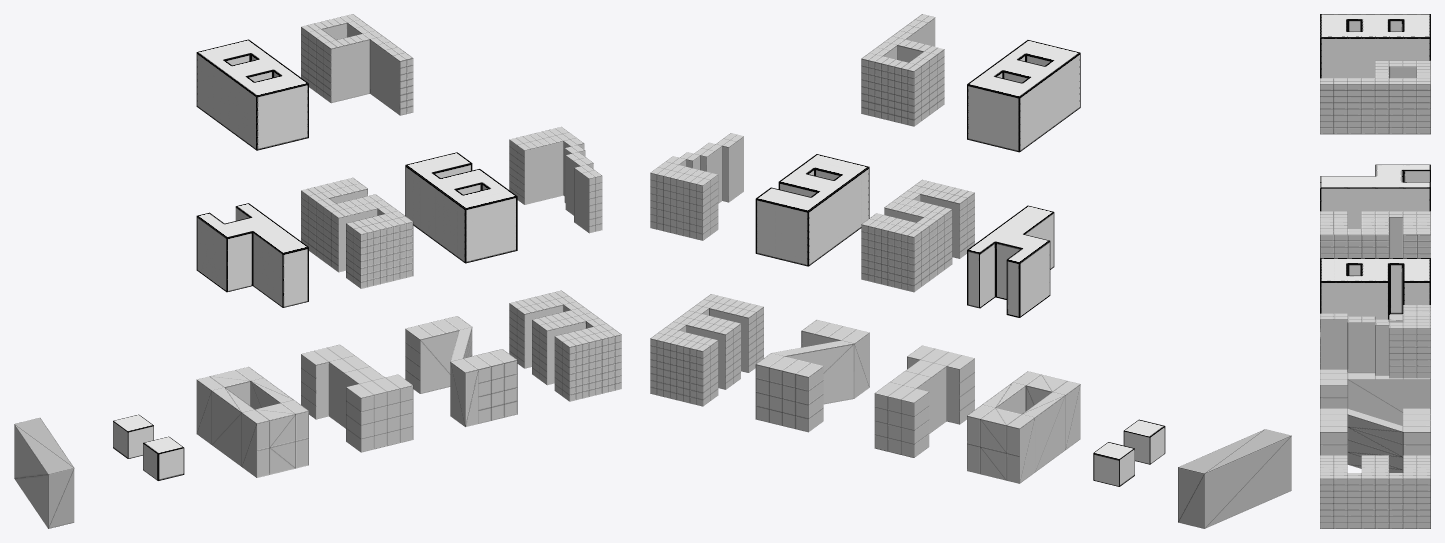
The model's file is cd5-nums.dae.
The picture shows the model from 3 angles, left to right: view 1: azimuth 30°, elevation 25°; view 2: azimuth 150°, elevation 25°; view 3: azimuth 270°, elevation 25°; orthographic projection. The views are drawn at different scales.
Parts seen in each view (by area): view 1: num_8, num_0, num_6, num_3, num_5, num_2, num_1, num_4, num_9, num_7, slash, colon; view 2: num_6, num_8, num_0, num_5, num_3, num_2, num_1, slash, num_4, num_7, num_9, colon; view 3: num_3, num_9, num_7, num_8, num_6, num_2, num_5, num_4, num_1.
Part boxes in pixels (bbox=[...]): num_8: bbox=[196, 39, 308, 150]; num_0: bbox=[196, 367, 308, 477]; num_6: bbox=[405, 152, 517, 263]; num_3: bbox=[509, 290, 621, 401]; num_5: bbox=[301, 177, 413, 288]; num_2: bbox=[405, 316, 517, 426]; num_1: bbox=[301, 344, 413, 452]; num_4: bbox=[196, 203, 308, 307]; num_9: bbox=[301, 14, 413, 115]; num_7: bbox=[509, 127, 602, 233]; slash: bbox=[14, 418, 74, 528]; colon: bbox=[113, 414, 184, 480]; num_6: bbox=[755, 154, 869, 266]; num_8: bbox=[967, 40, 1080, 152]; num_0: bbox=[967, 371, 1080, 483]; num_5: bbox=[861, 179, 974, 292]; num_3: bbox=[650, 294, 763, 406]; num_2: bbox=[755, 320, 869, 432]; num_1: bbox=[874, 345, 974, 457]; slash: bbox=[1178, 429, 1291, 528]; num_4: bbox=[967, 205, 1054, 317]; num_7: bbox=[650, 133, 743, 240]; num_9: bbox=[861, 14, 944, 126]; colon: bbox=[1093, 419, 1165, 486]; num_3: bbox=[1320, 455, 1430, 528]; num_9: bbox=[1320, 60, 1430, 134]; num_7: bbox=[1320, 305, 1430, 378]; num_8: bbox=[1320, 14, 1430, 78]; num_6: bbox=[1320, 258, 1430, 319]; num_2: bbox=[1320, 408, 1430, 472]; num_5: bbox=[1320, 211, 1430, 257]; num_4: bbox=[1320, 164, 1430, 228]; num_1: bbox=[1320, 369, 1430, 425].
Size of the model in its own units: 11 by 2 by 7.
12 materials, 12 textured.
